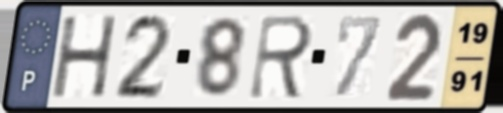2: (112, 13, 178, 102), (385, 10, 446, 104)
7: (332, 13, 384, 101)
8: (194, 14, 251, 100)
H: (50, 13, 121, 101)
R: (245, 12, 317, 102)
